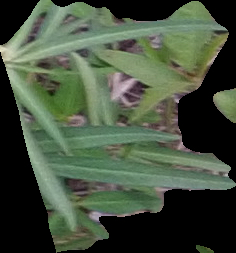grass: (1, 1, 234, 251)
